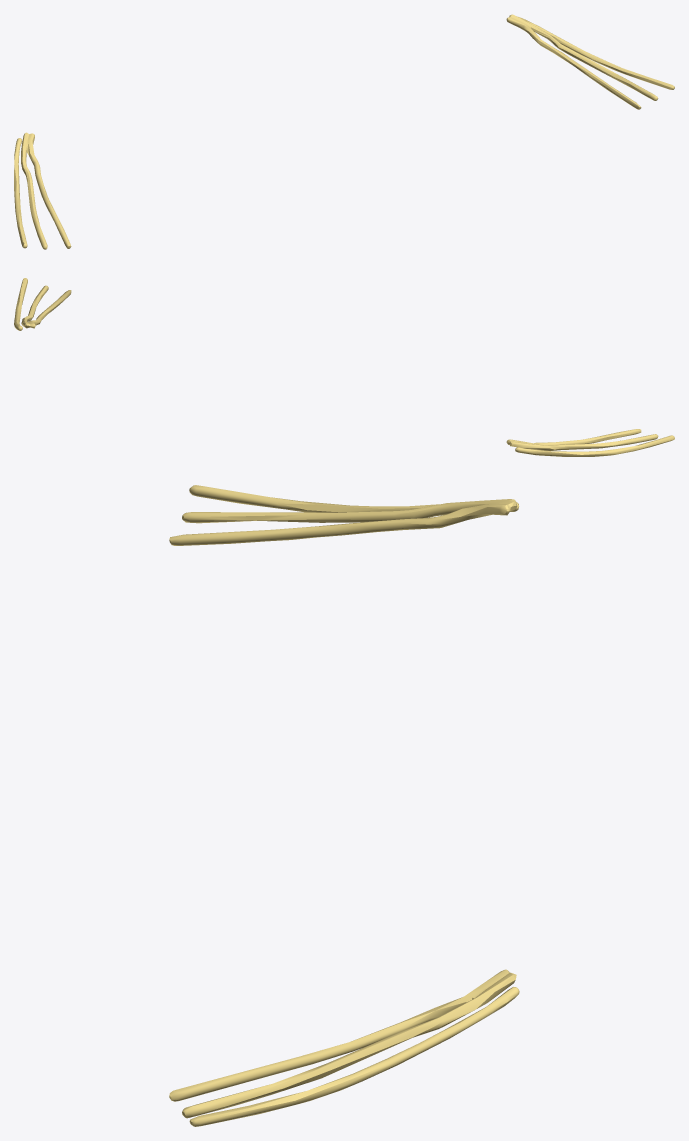
Rendered from fma7041_cx200.glb.
The picture shows the model from 3 angles, top to bottom: view 1: azimuth 30°, elevation 25°; view 2: azimuth 150°, elevation 25°; view 3: azimuth 270°, elevation 25°; orthographic projection. The views are drawn at different scales.
Visible parts, largest first — view 1: FMA7041_CX200; view 2: FMA7041_CX200; view 3: FMA7041_CX200.
Boxes of the visible parts, x1,y1,x2,y2 form: FMA7041_CX200: (14,14,674,249); FMA7041_CX200: (14,278,674,456); FMA7041_CX200: (169,485,519,1126).
Bounding box in the file's own units: 0.0657 × 0.00418 × 0.0153.
